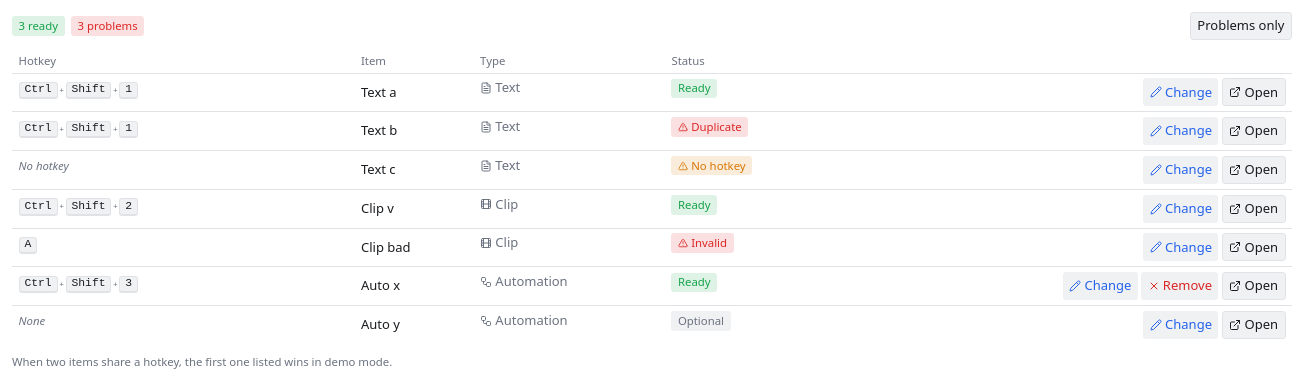
HotkeysTable › captures and saves a new hotkey
Click the button with test id "hotkey-change-c" at (1181,170), box [1143, 156, 1218, 184]
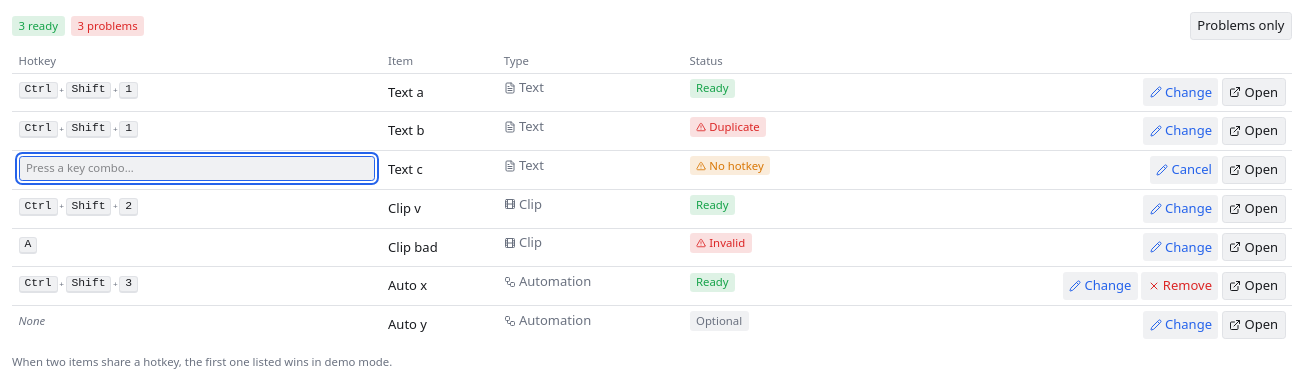
Press 4 in the field with test id "hotkey-capture-c", box [18, 156, 375, 181]
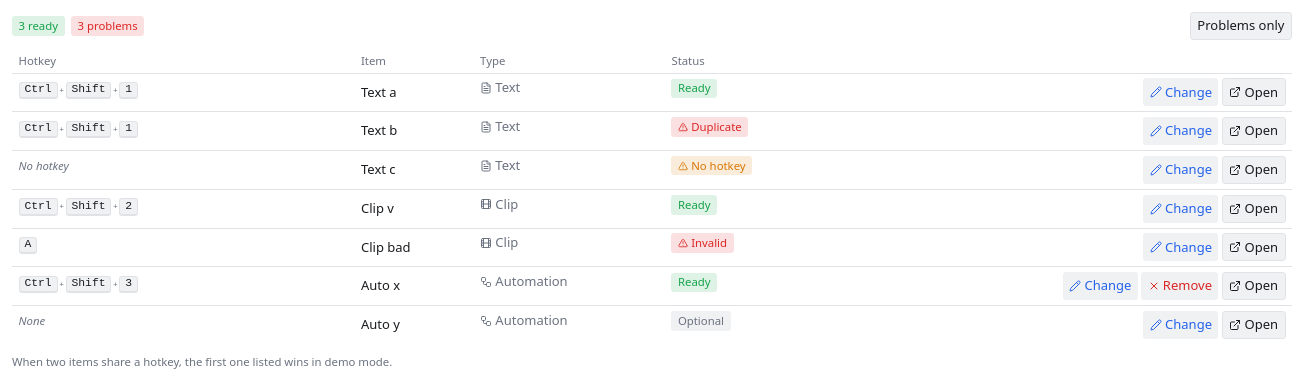
Result: the field with test id "hotkey-capture-c" is gone
